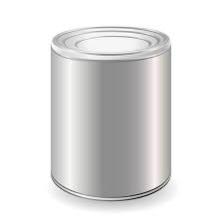metal: (41, 21, 179, 212)
